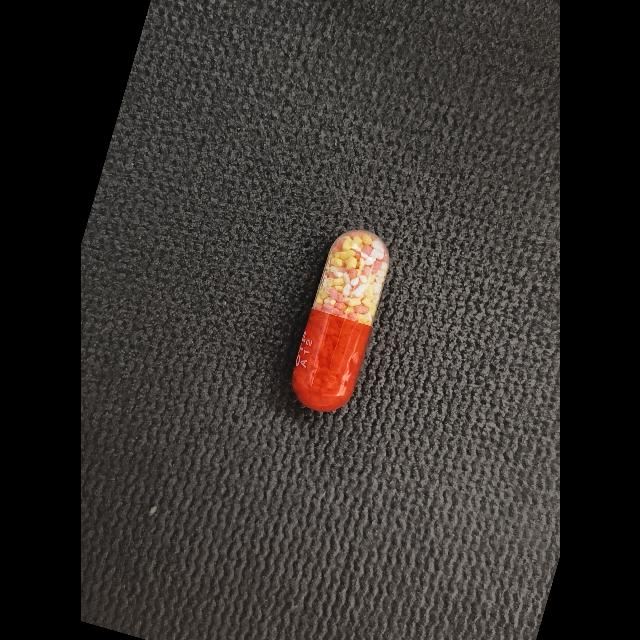Intact Capsule: (291, 229, 389, 412)
